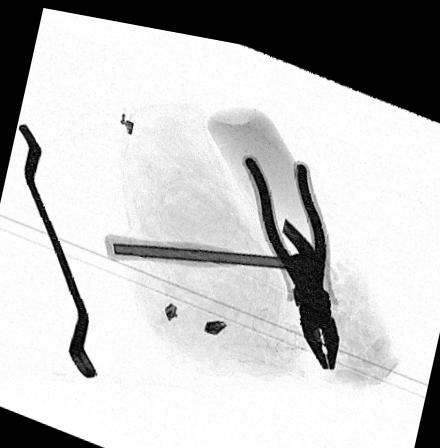Hammer: (104, 208, 327, 284)
Pliers: (239, 148, 343, 363)
Wrench: (17, 121, 100, 380)
